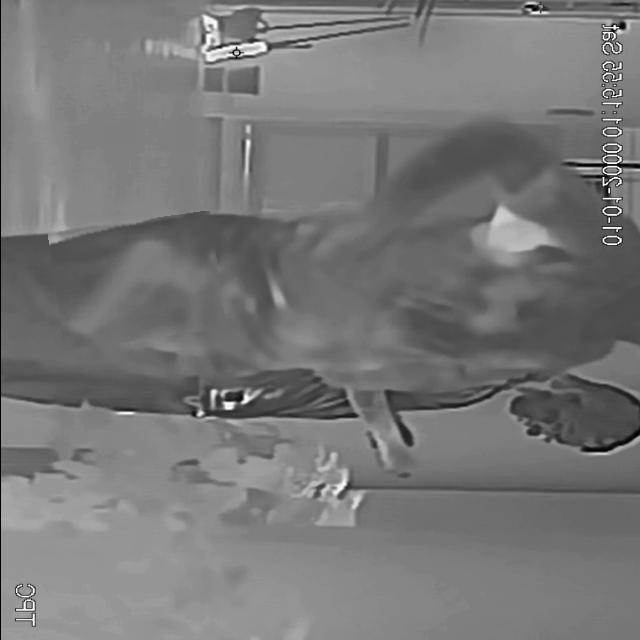Weapon: (50, 216, 222, 345)
